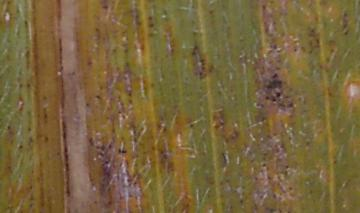tarspot: (265, 80, 283, 90), (99, 3, 110, 11), (117, 147, 127, 155), (93, 93, 103, 101), (285, 102, 295, 110), (270, 72, 278, 80), (343, 28, 351, 36), (274, 90, 282, 97), (260, 4, 268, 11), (264, 94, 271, 101), (341, 10, 349, 16), (17, 143, 23, 150), (6, 124, 12, 131), (284, 163, 290, 170), (104, 159, 110, 165), (271, 97, 277, 103), (85, 102, 90, 107)
